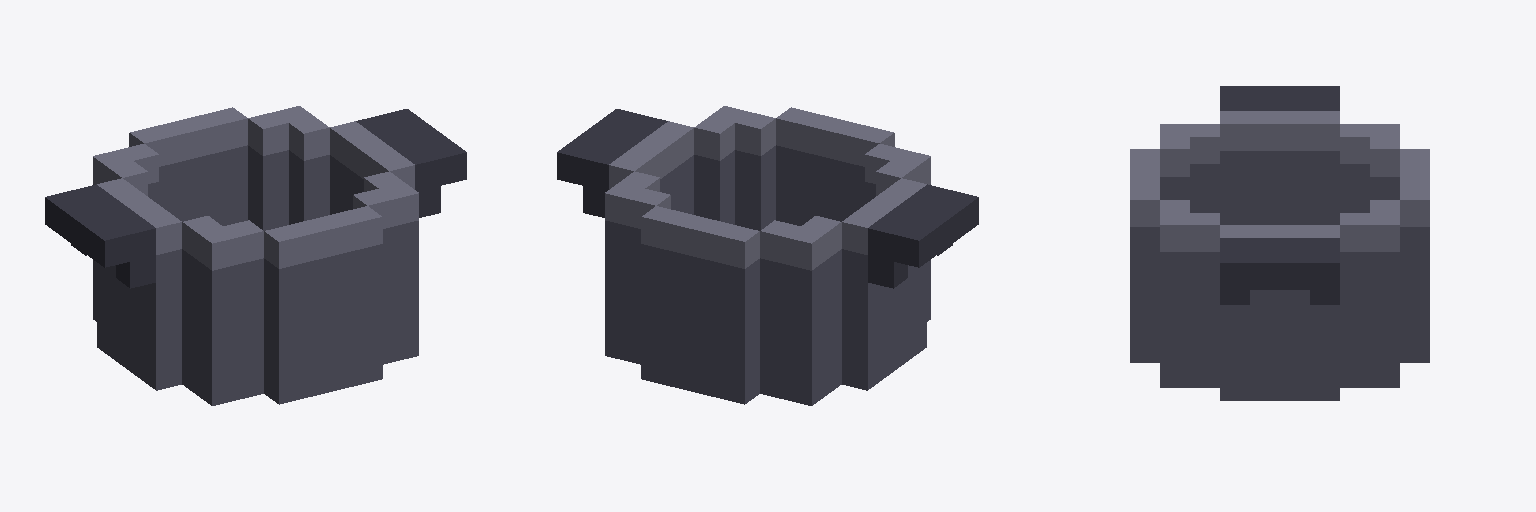
3 views of the same model, side by side, from view 1: azimuth 30°, elevation 25°; view 2: azimuth 150°, elevation 25°; view 3: azimuth 270°, elevation 25° (orthographic).
Parts seen in each view (by area): view 1: Tool_Tool.001; view 2: Tool_Tool.001; view 3: Tool_Tool.001.
Boxes of the visible parts, <box> form: Tool_Tool.001: <box>45,106,466,405</box>; Tool_Tool.001: <box>557,106,978,405</box>; Tool_Tool.001: <box>1130,86,1429,400</box>.
Size of the model in its own units: 1.4 by 0.6 by 1.
Materials: 1 (1 with a texture image).